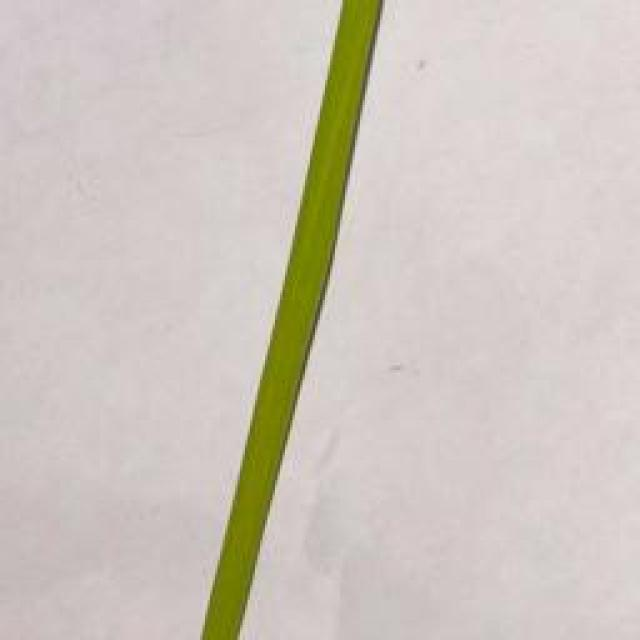Healthy-Plant: (199, 0, 380, 640)
